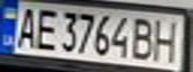3: (57, 8, 78, 53)
4: (109, 12, 133, 60)
6: (90, 11, 115, 56)
7: (75, 10, 96, 55)
A: (9, 4, 42, 50)
B: (130, 15, 160, 62)
E: (30, 4, 60, 52)
H: (151, 16, 184, 64)
